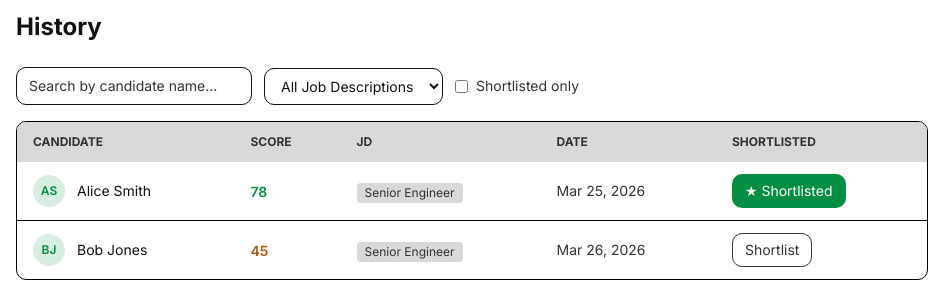
Scenario: CandidateHistoryTable › filter_by_name_is_case_insensitive
Type "alice" into the field with placeholder "Search by candidate name…". click: (134,86)
box: [16,67,252,105]
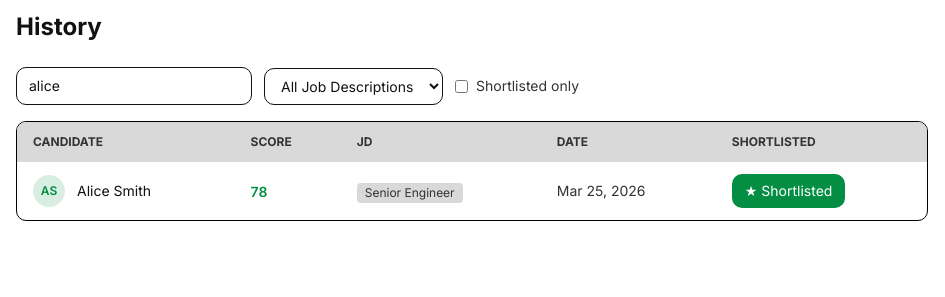
Expected: the text "Alice Smith" is shown, [77,181,151,201]
Expected: the text "Bob Jones" is gone
